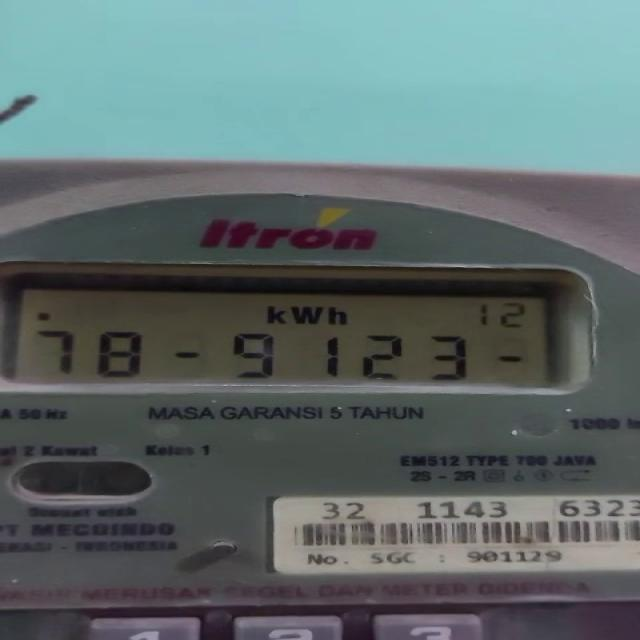LCD: (0, 261, 601, 400)
